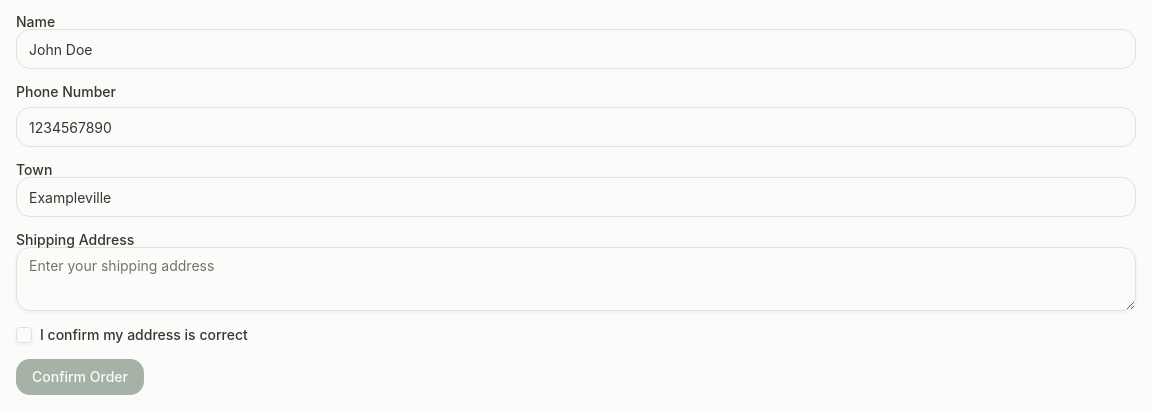
Scenario: HardCopyOrderTab › enables the button when all required fields are filled
Type "123 Main St" into the text box labelled "Shipping Address".
click(576, 279); type("123 Main St")  # box [16, 247, 1136, 311]
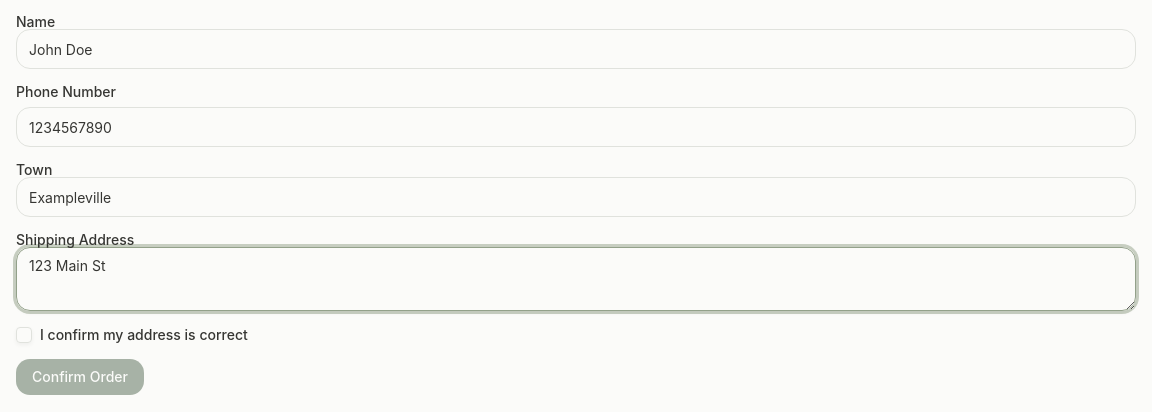
Click the checkbox named "I confirm my address is correct".
click(24, 335)  # box [16, 327, 32, 343]
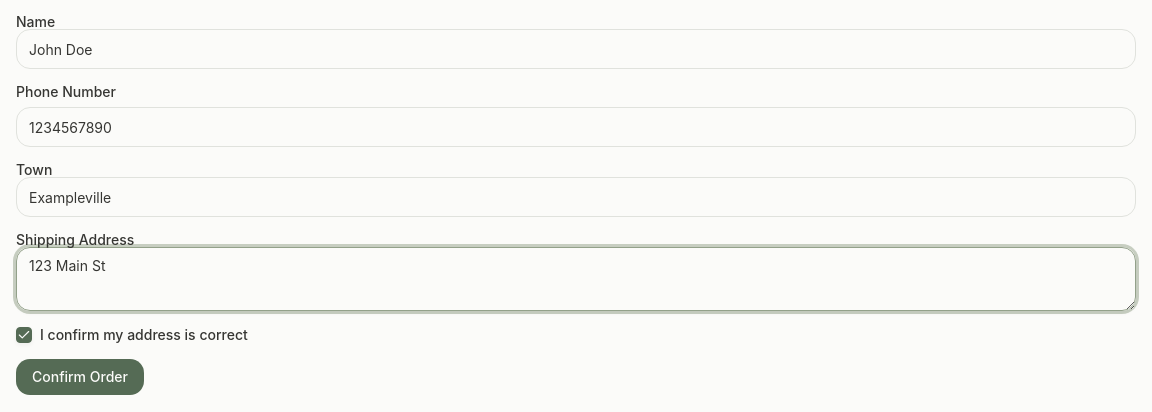
Check: the button "Confirm Order" is enabled, box [16, 359, 144, 395]
